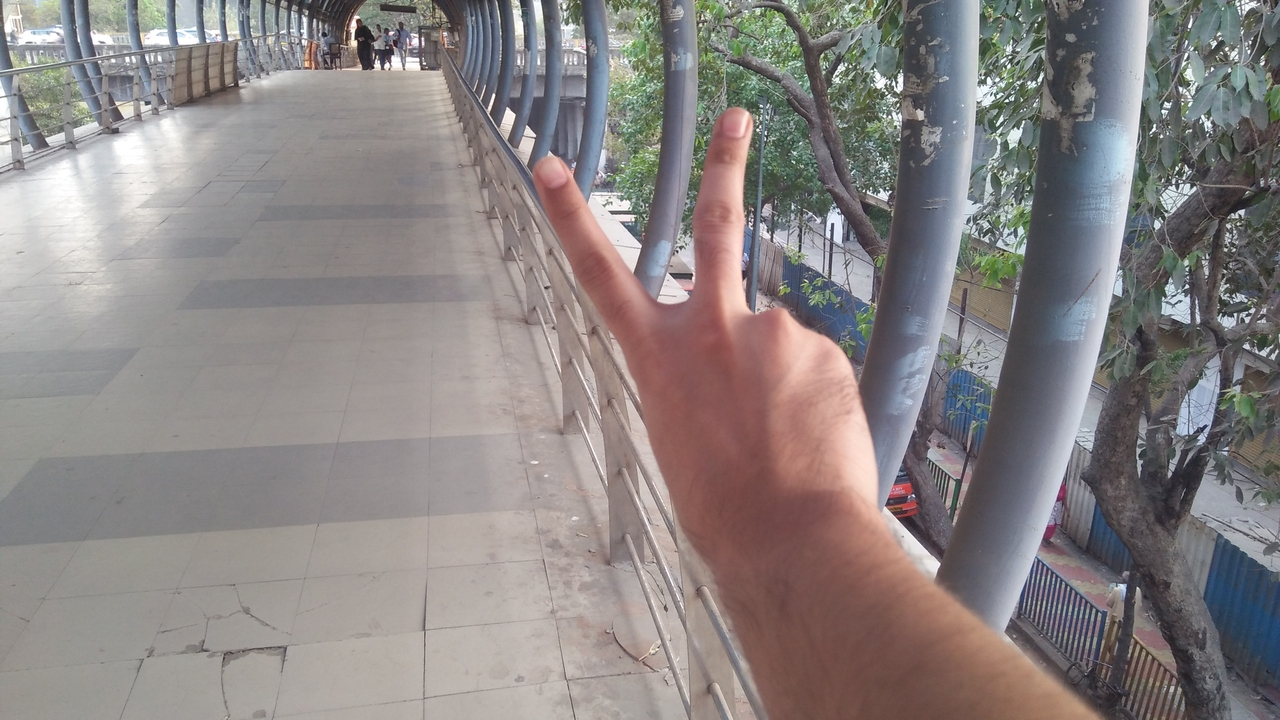fingertip: (708, 96, 762, 150), (524, 146, 576, 196)
